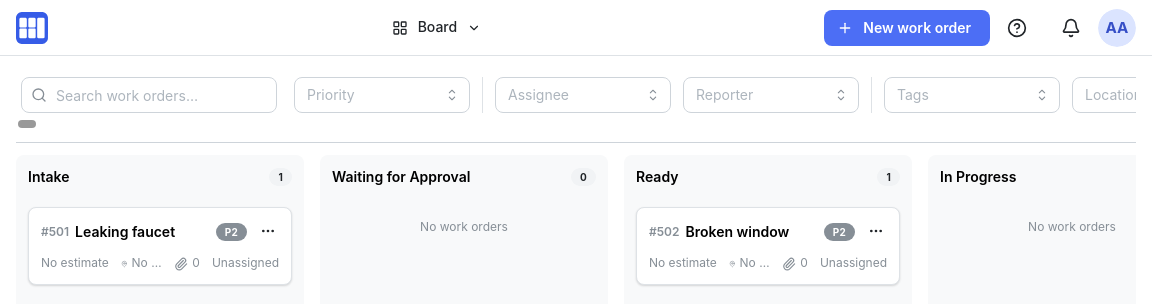
Test: BoardPage filter bar (server-side filtering) › fetches the narrowed board via POST /board/query as the query changes
Expected: the element labelled "Broken window" is shown, [636, 207, 900, 285]
Type "faucet" into the field named "Filter work orders".
click(149, 95); type("faucet")  # box [21, 77, 277, 113]
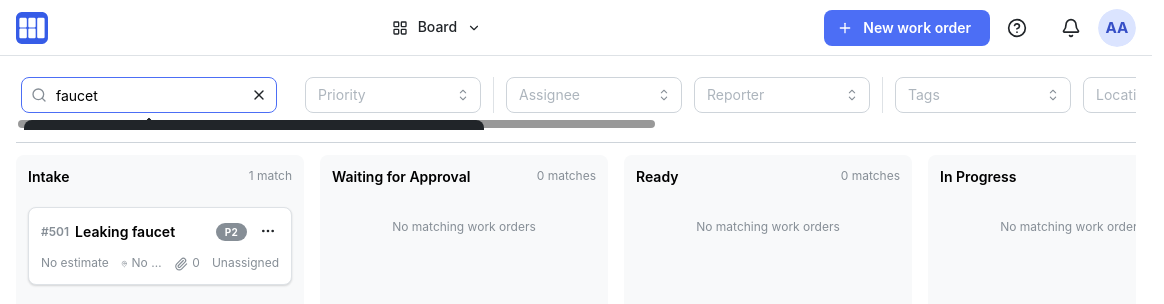
Expected: the element labelled "Leaking faucet" is shown, [28, 207, 292, 285]
Expected: the text labelled "Broken window" is gone
